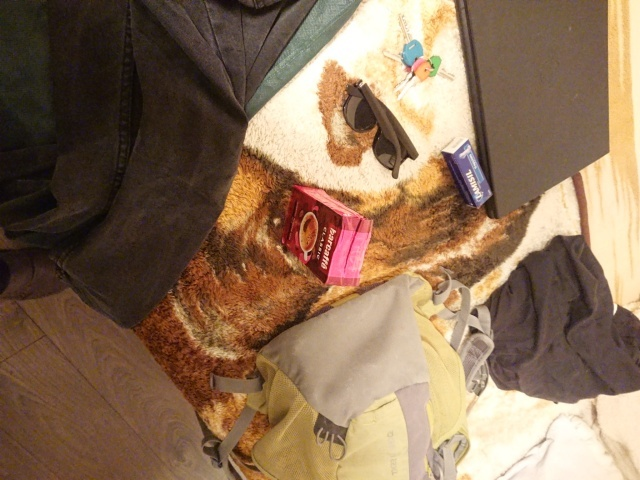Barcaffe Classic Original 225g: (280, 182, 375, 289)
